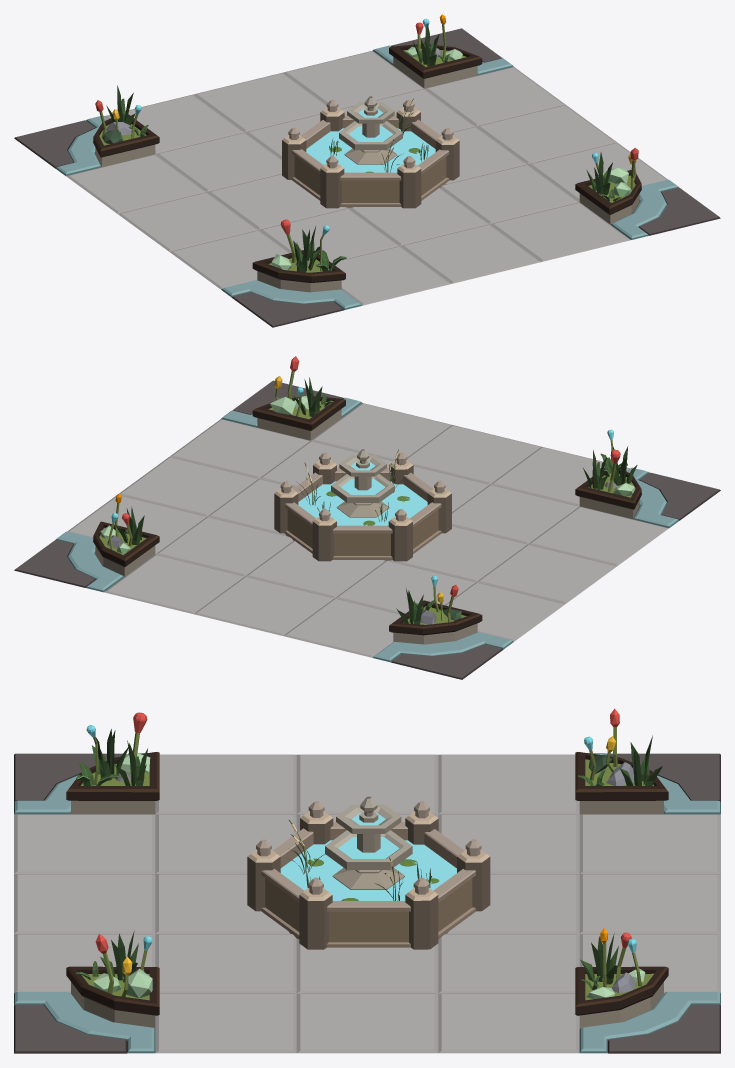
File: Crossroads_C.glb
3 views of the same model, one above another, from view 1: azimuth 30°, elevation 25°; view 2: azimuth 150°, elevation 25°; view 3: azimuth 270°, elevation 25° (orthographic). The views are drawn at different scales.
Parts seen in each view (by area): view 1: Crossroads_C, Fountain01.004, Grass_03.547, Grass_03.545; view 2: Crossroads_C, Fountain01.004; view 3: Crossroads_C, Fountain01.004, Grass_03.545, Grass_03.546, Grass_03.548, Grass_03.547, Flower03.1643, Grass_03.549, Tree_03.1397.
Part boxes in pixels (left/top/right/bottom): Crossroads_C: left=14, top=28, right=720, bottom=327; Fountain01.004: left=282, top=96, right=459, bottom=208; Grass_03.547: left=586, top=152, right=612, bottom=195; Grass_03.545: left=413, top=23, right=439, bottom=66; Crossroads_C: left=14, top=380, right=720, bottom=679; Fountain01.004: left=274, top=449, right=451, bottom=561; Crossroads_C: left=14, top=752, right=720, bottom=1053; Fountain01.004: left=247, top=796, right=490, bottom=949; Grass_03.545: left=580, top=934, right=618, bottom=984; Grass_03.546: left=619, top=735, right=662, bottom=785; Grass_03.548: left=92, top=729, right=128, bottom=780; Grass_03.547: left=100, top=930, right=138, bottom=982; Flower03.1643: left=95, top=934, right=132, bottom=996; Grass_03.549: left=114, top=740, right=147, bottom=785; Tree_03.1397: left=124, top=968, right=152, bottom=998.
Size of what is drawn, in the model's own units: 16 by 2.73 by 16.
Materials: 1 (1 with a texture image).
